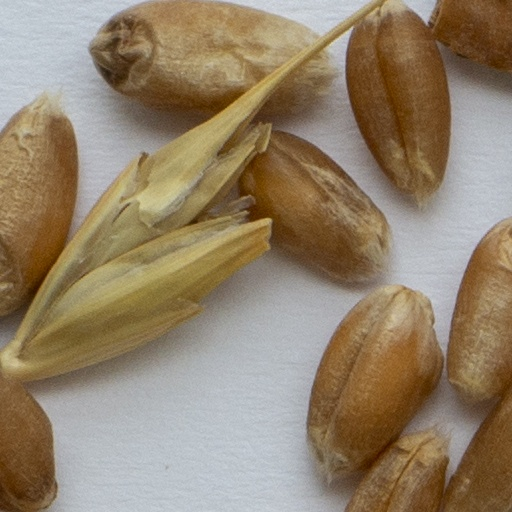Peel-poly: (0, 0, 387, 378), (426, 0, 511, 72)
Wheat-grain-poly: (0, 371, 58, 511)
